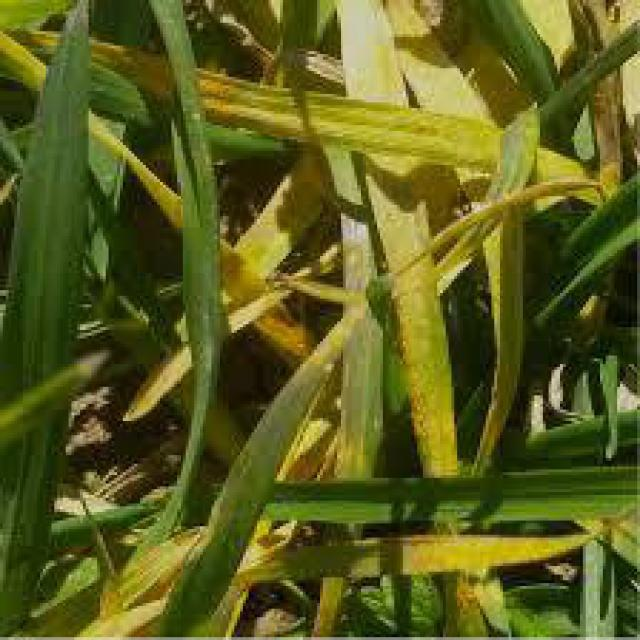wheat-yellowrust: (351, 154, 457, 478), (194, 71, 503, 165), (334, 0, 414, 108), (91, 40, 171, 100), (11, 28, 60, 68)
